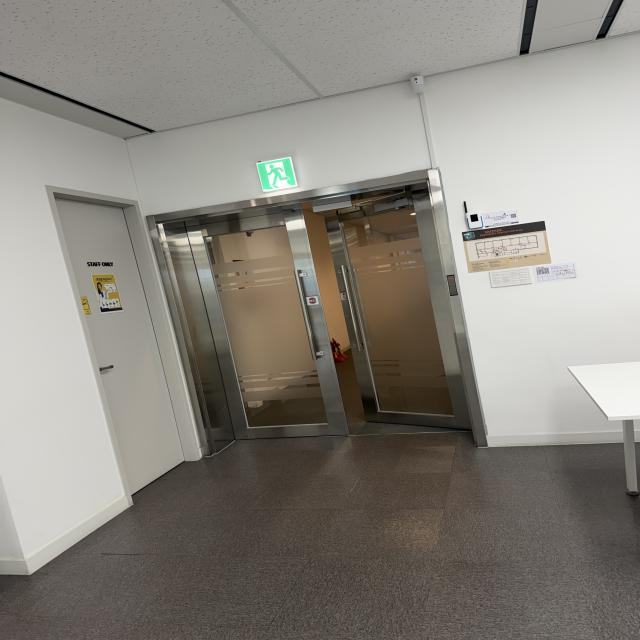rear_door: (160, 179, 470, 439)
